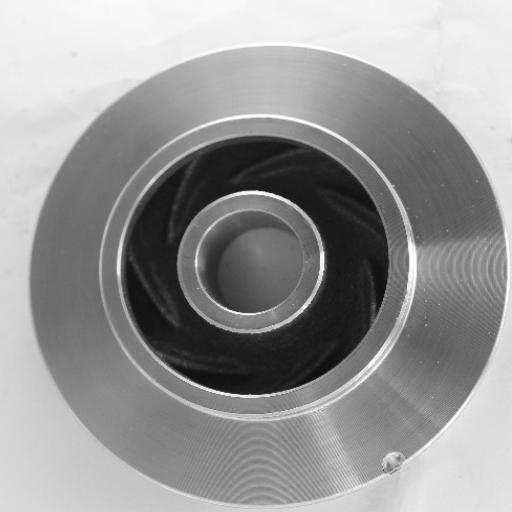crack: (373, 449, 416, 485)
unpolished_casting: (29, 44, 508, 509)
